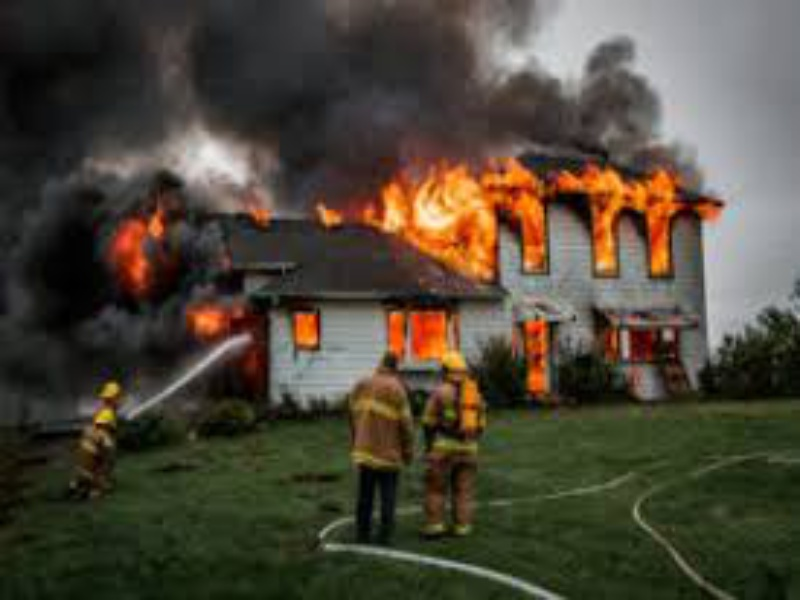fire: (356, 157, 498, 225), (92, 198, 171, 298), (501, 160, 550, 275), (415, 229, 496, 278), (389, 309, 455, 369), (560, 167, 684, 195), (592, 195, 624, 273), (520, 321, 552, 399), (186, 294, 231, 340), (650, 215, 677, 281), (291, 309, 325, 351), (314, 199, 346, 231), (246, 202, 276, 229), (635, 199, 679, 213)
